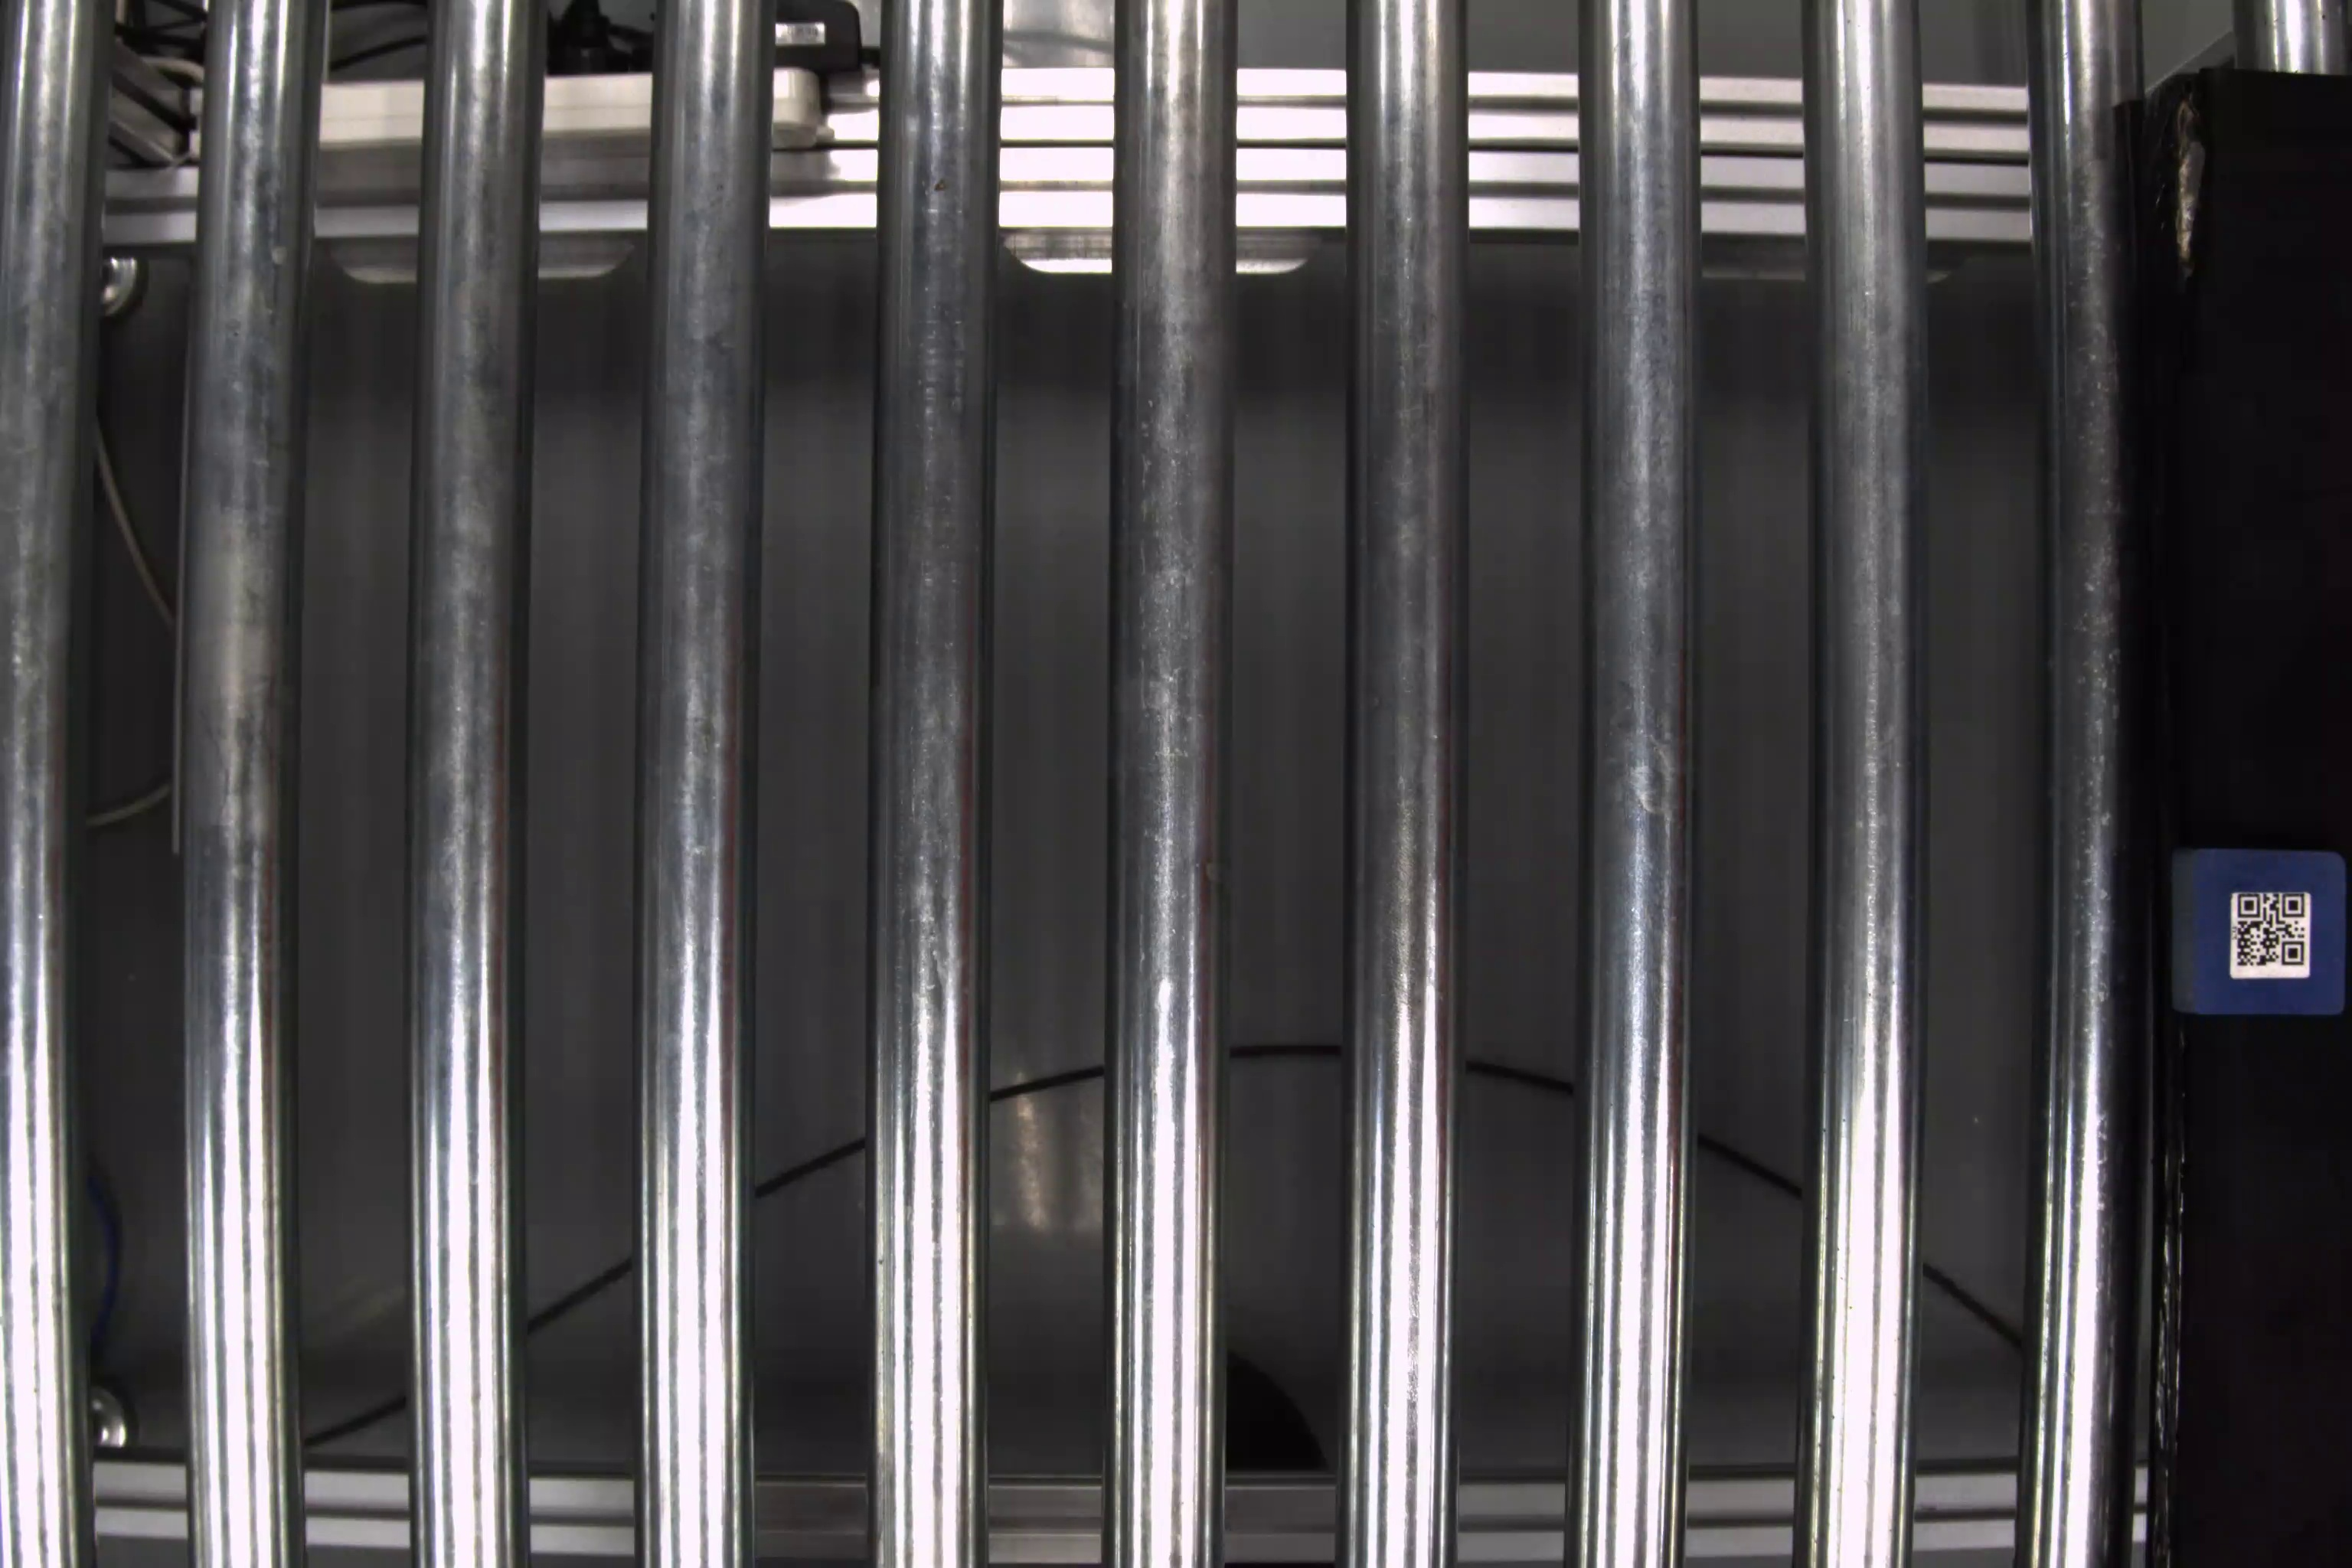wood: (2166, 843, 2350, 1018)
